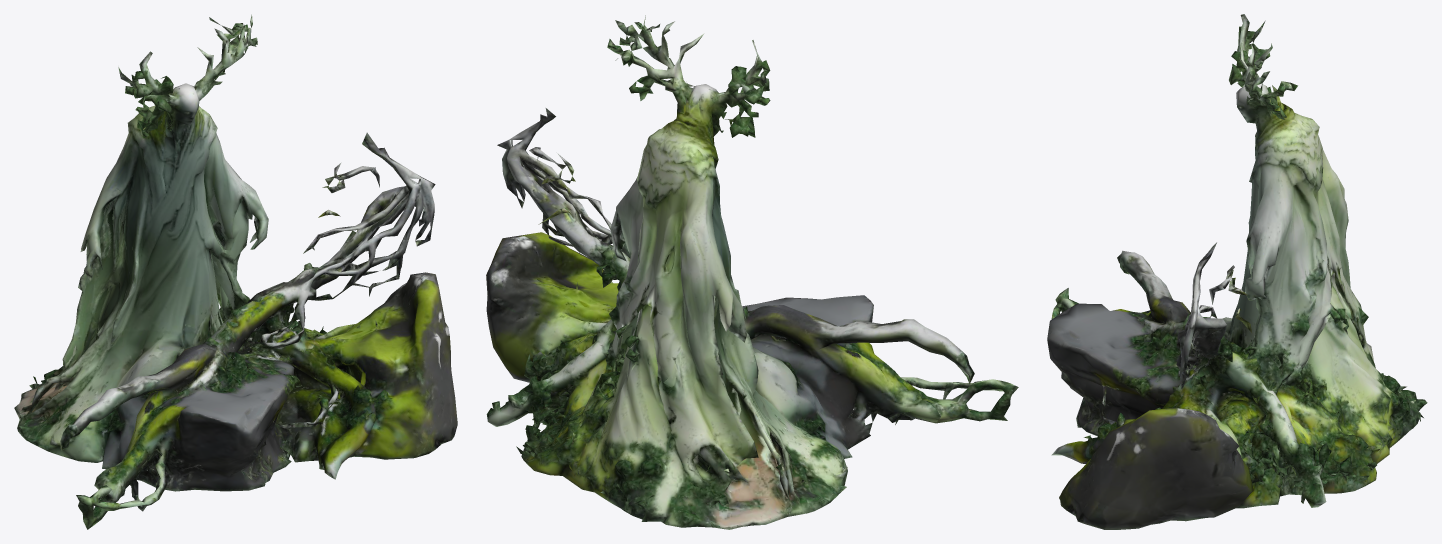
Rendered from Ghost_Druid_Hallowe.glb.
3 views of the same model, side by side, from view 1: azimuth 30°, elevation 25°; view 2: azimuth 150°, elevation 25°; view 3: azimuth 270°, elevation 25° (orthographic). The views are drawn at different scales.
Visible parts, largest first — view 1: Mesh1.0; view 2: Mesh1.0; view 3: Mesh1.0.
Boxes of the visible parts, <box> form: Mesh1.0: <box>14,14,457,529</box>; Mesh1.0: <box>486,15,1018,529</box>; Mesh1.0: <box>1047,14,1427,529</box>.
Bounding box in the file's own units: 1.91 × 1.7 × 1.45.
1 material, 1 textured.
